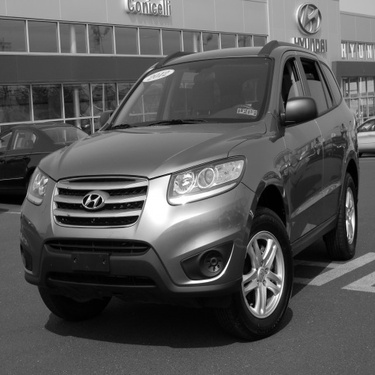car: (22, 42, 358, 341), (6, 94, 86, 204), (351, 87, 372, 160)
